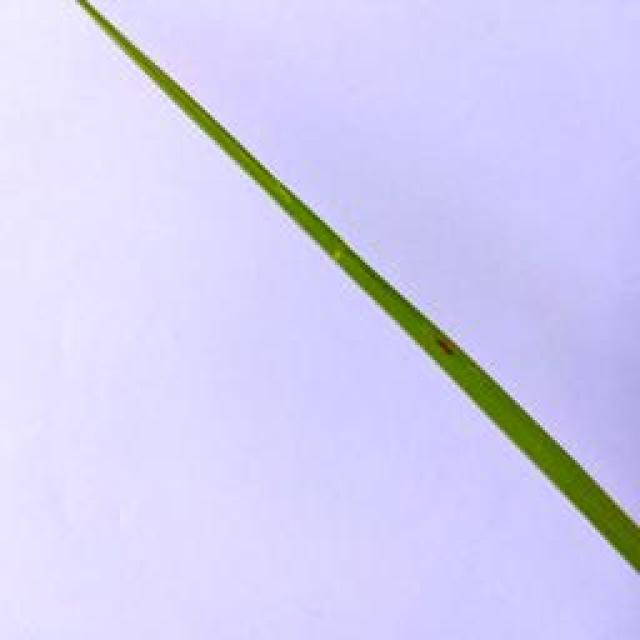Brown_Spot: (432, 332, 463, 367)
